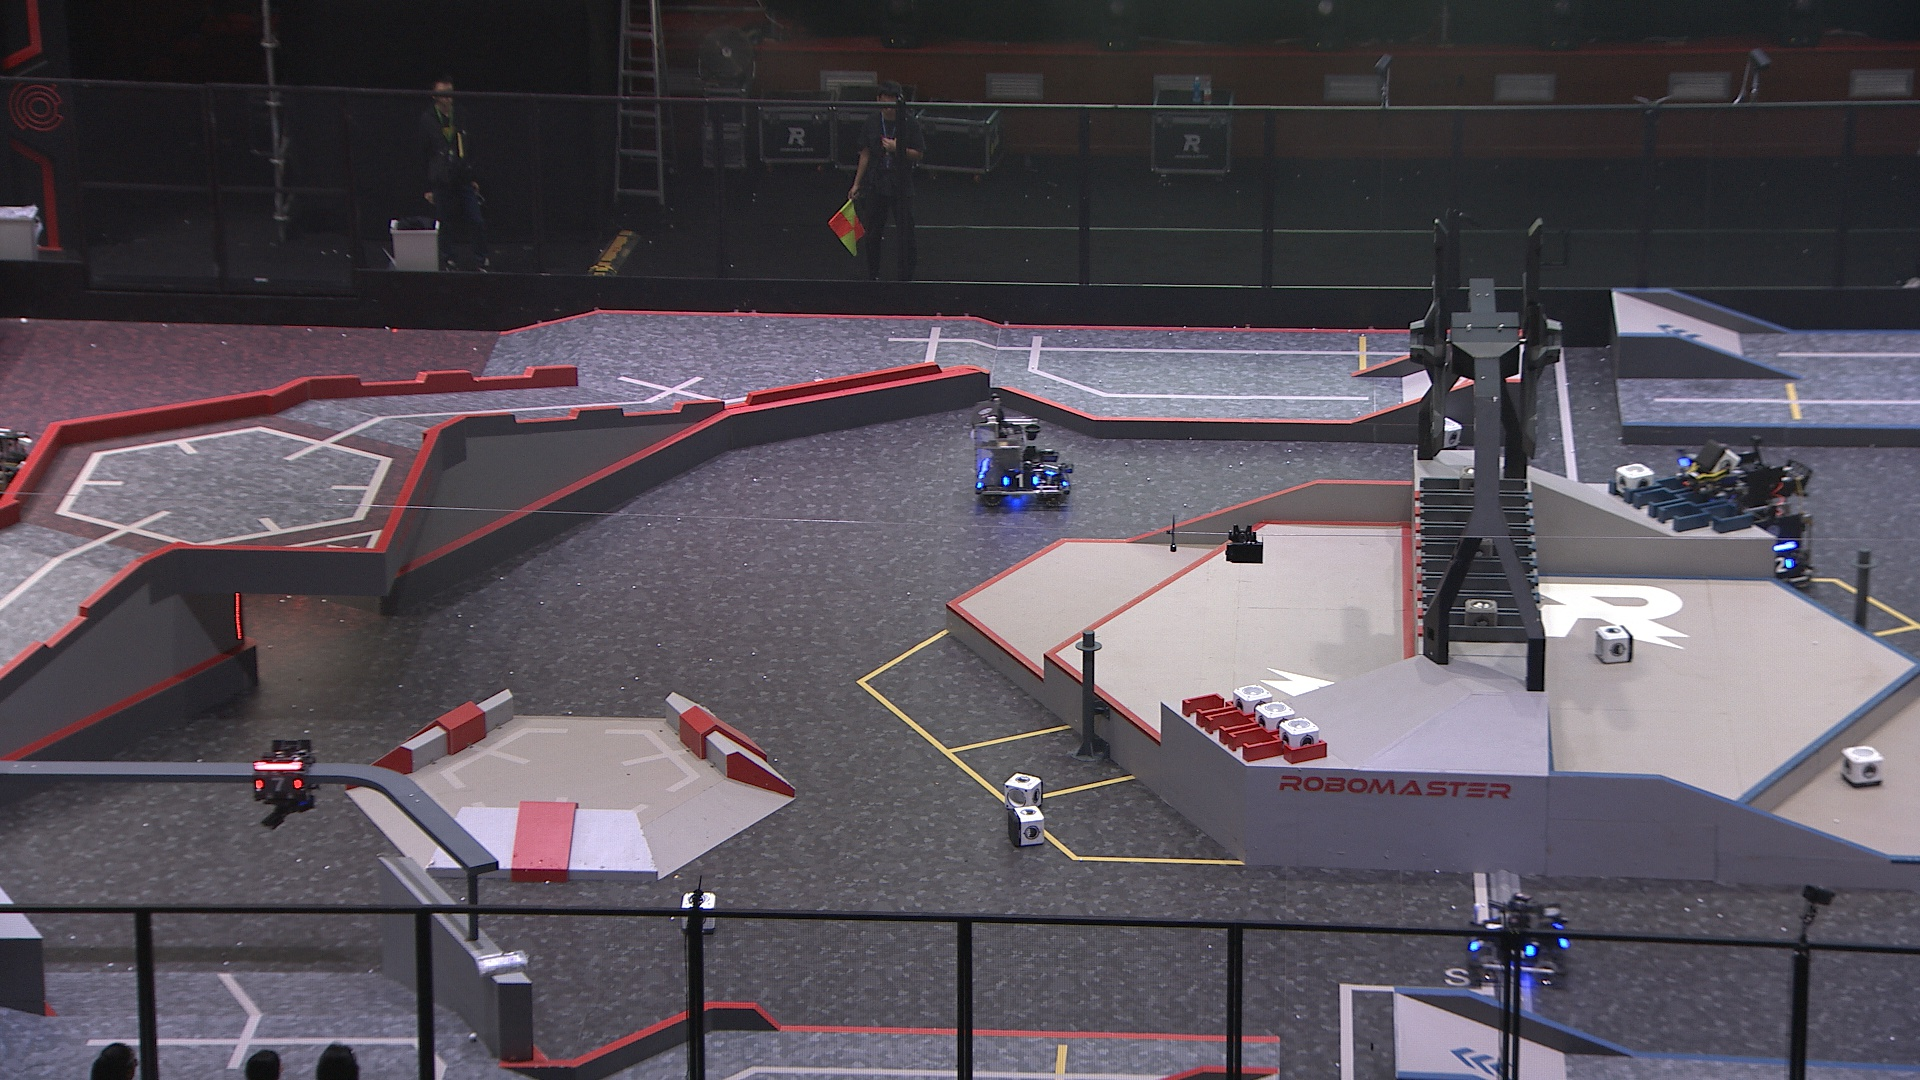armor: (251, 770, 305, 796), (1001, 469, 1040, 489), (1503, 939, 1536, 963), (1481, 916, 1505, 940), (1035, 458, 1063, 477), (1774, 555, 1793, 576), (1058, 471, 1072, 488)
car: (1681, 458, 1813, 591), (972, 396, 1072, 510), (1466, 889, 1569, 986)
watcher: (247, 735, 315, 827)
